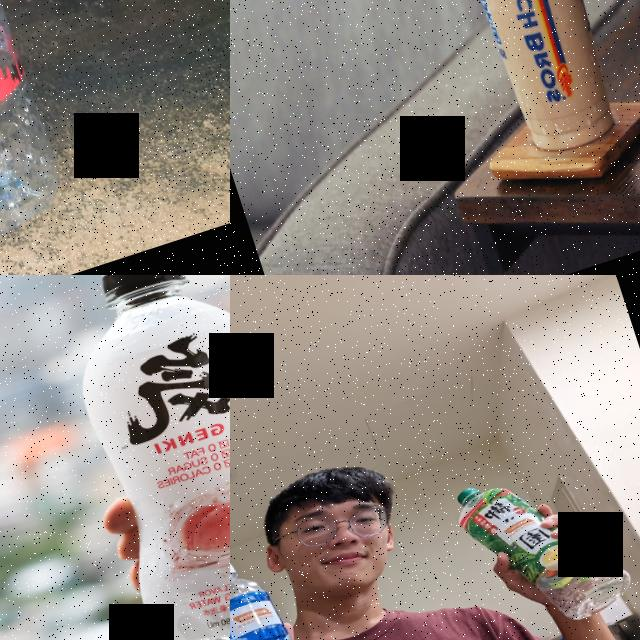bottle: (39, 275, 230, 640), (449, 446, 640, 640), (0, 0, 87, 262), (230, 542, 330, 640)
cup: (415, 0, 640, 166)
